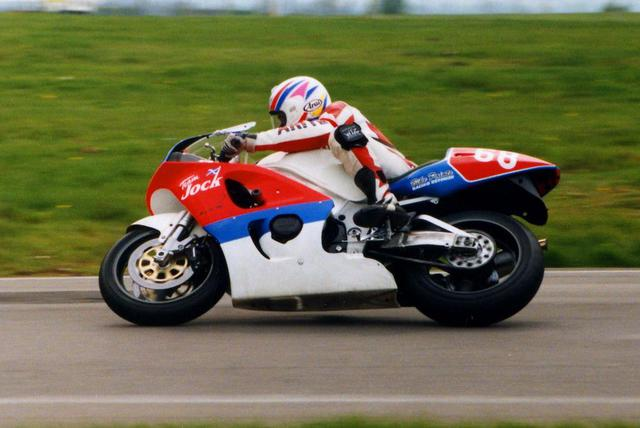helmet: (267, 73, 329, 127)
